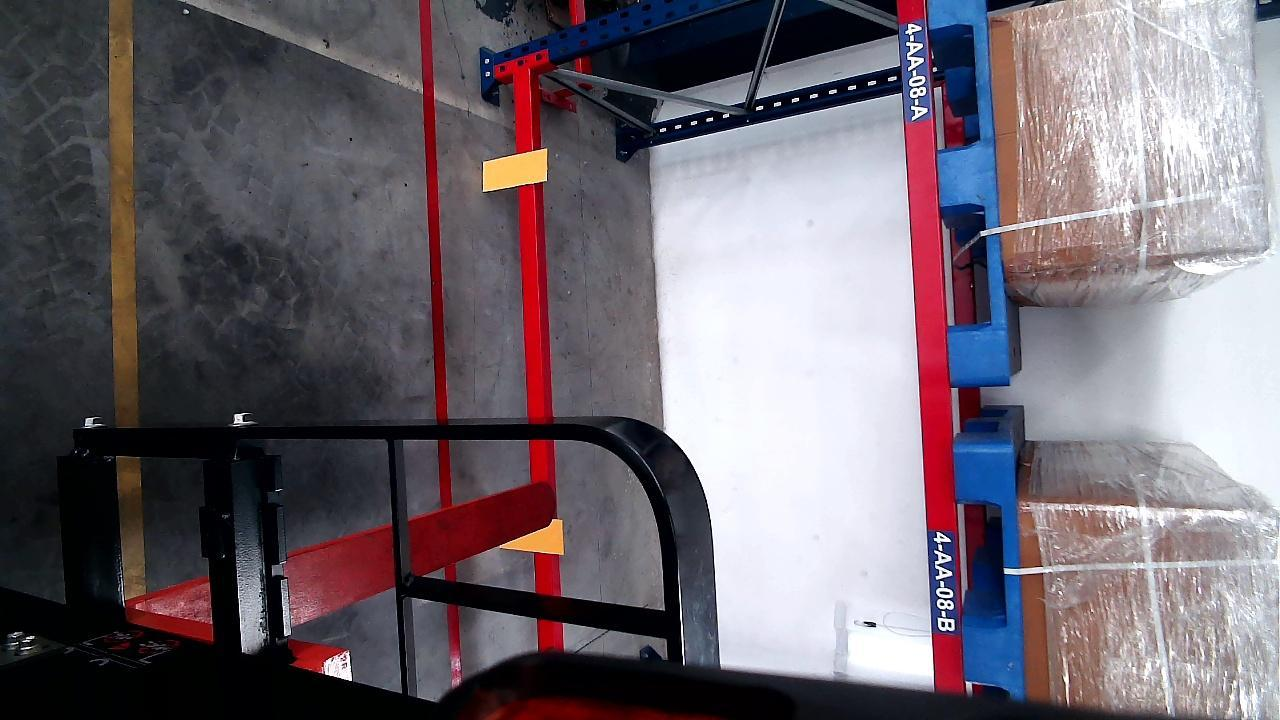red_line: (419, 0, 461, 686)
yellow_line: (109, 0, 139, 419)
